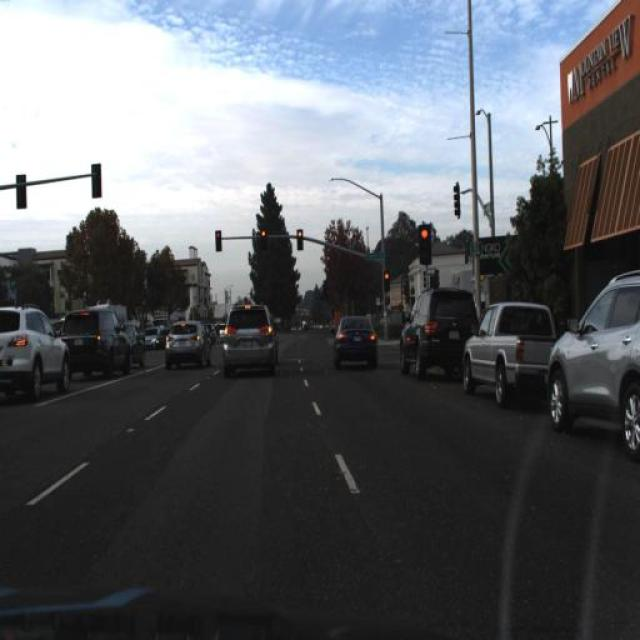car: (546, 269, 640, 462), (459, 298, 562, 412), (393, 287, 482, 381), (1, 299, 73, 401), (51, 303, 134, 383), (218, 299, 280, 379), (160, 312, 212, 373), (332, 314, 380, 370)
trafficLight-Green: (212, 228, 224, 254)
trafficLight-RedLeft: (414, 220, 434, 270), (258, 228, 272, 257), (382, 268, 393, 298), (294, 228, 305, 254), (382, 269, 389, 291)
